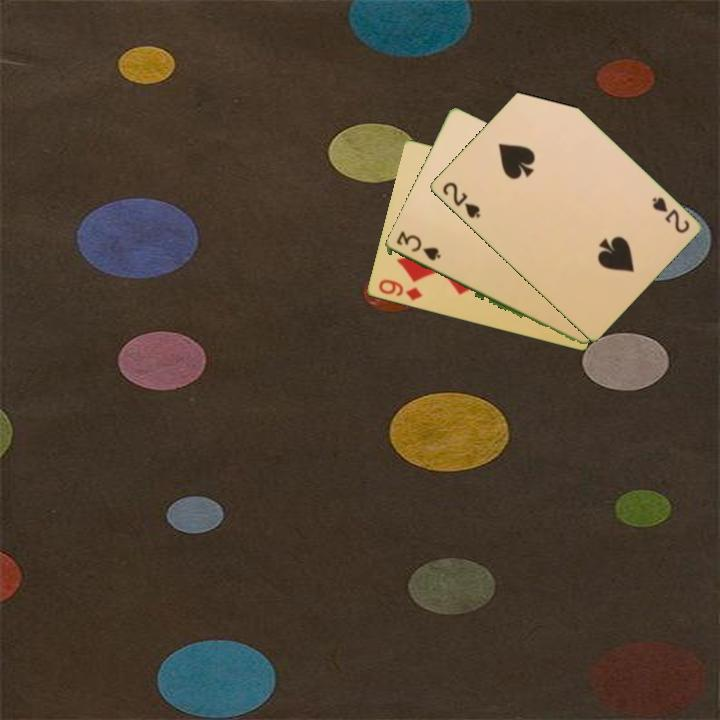2s: (438, 178, 483, 221), (648, 193, 692, 236)
3s: (392, 231, 444, 264)
9d: (375, 276, 425, 304)
